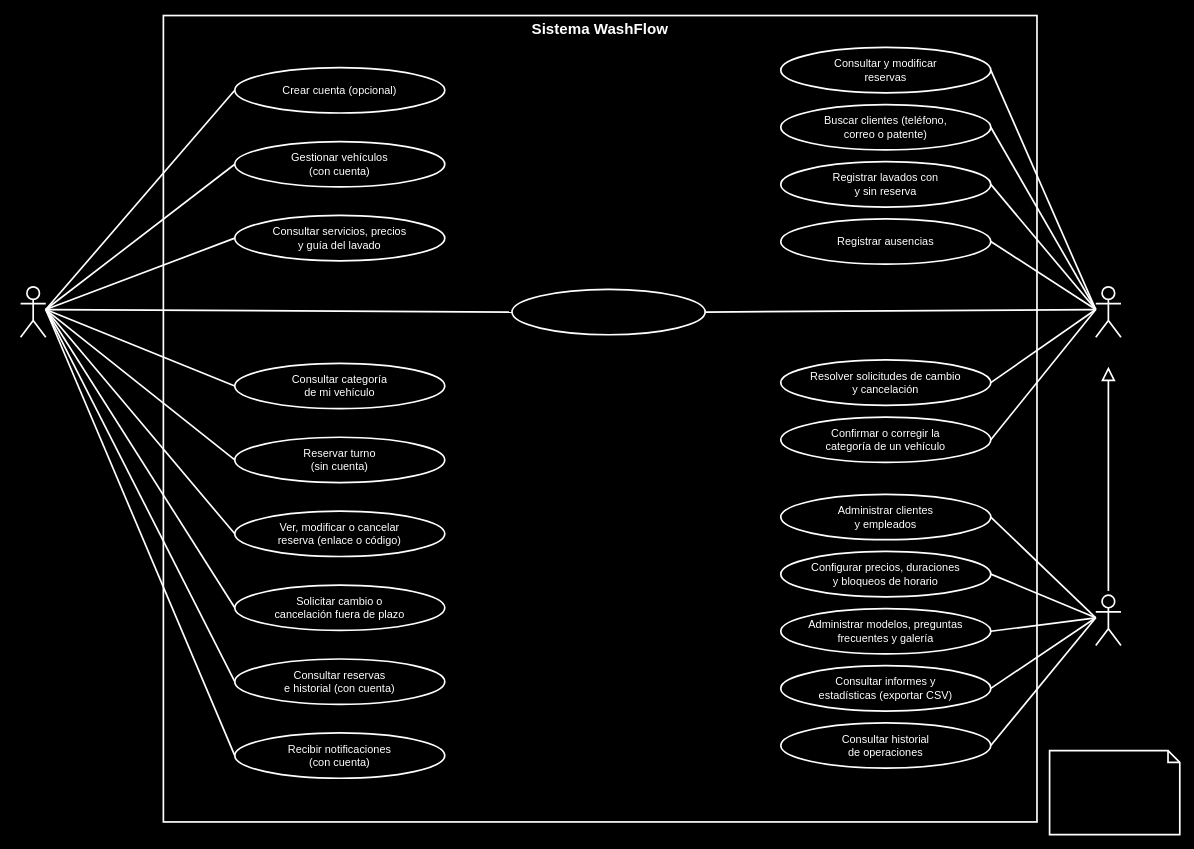
Image size: 1194x849. Some labels were removed from this diagram. The shapes that lost their labels are listed below. From the top down, each one's box as (x1, y1, x2, y2) in pixels, then its label:
(19, 286, 46, 338): Cliente
(511, 288, 706, 335): Iniciar sesión
(1095, 286, 1121, 338): Empleado
(1095, 594, 1121, 646): Administrador
(1048, 749, 1180, 835): El Administrador también puede realizar los casos de uso del Empleado.
